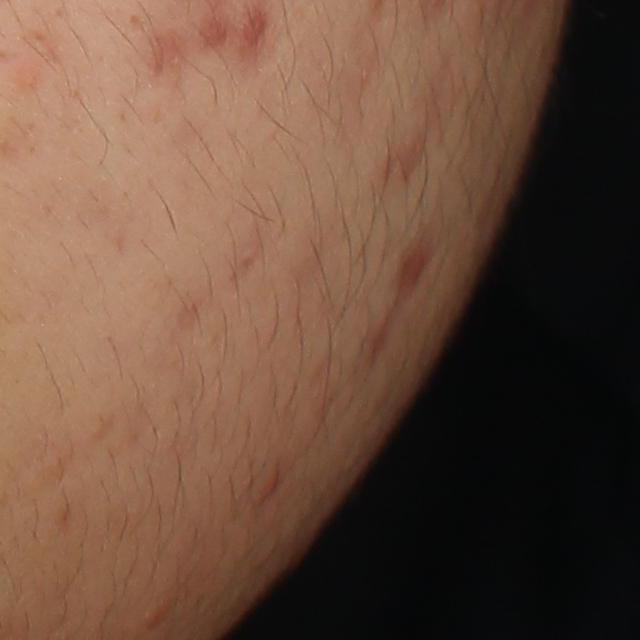papule: (135, 589, 177, 632), (260, 467, 282, 499)
